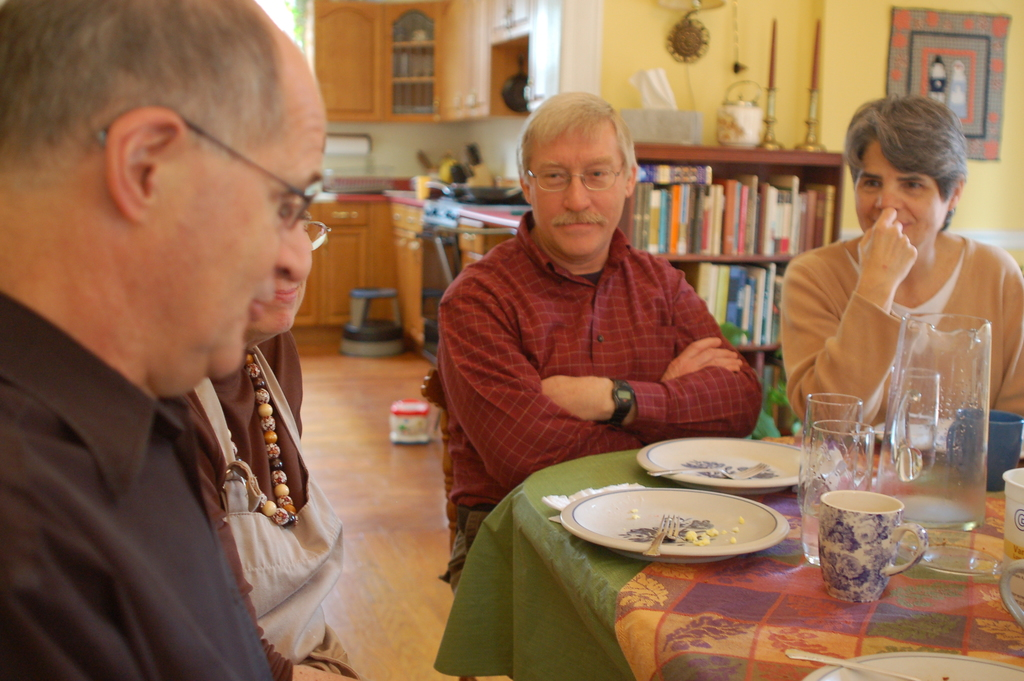plate: (558, 484, 793, 563)
